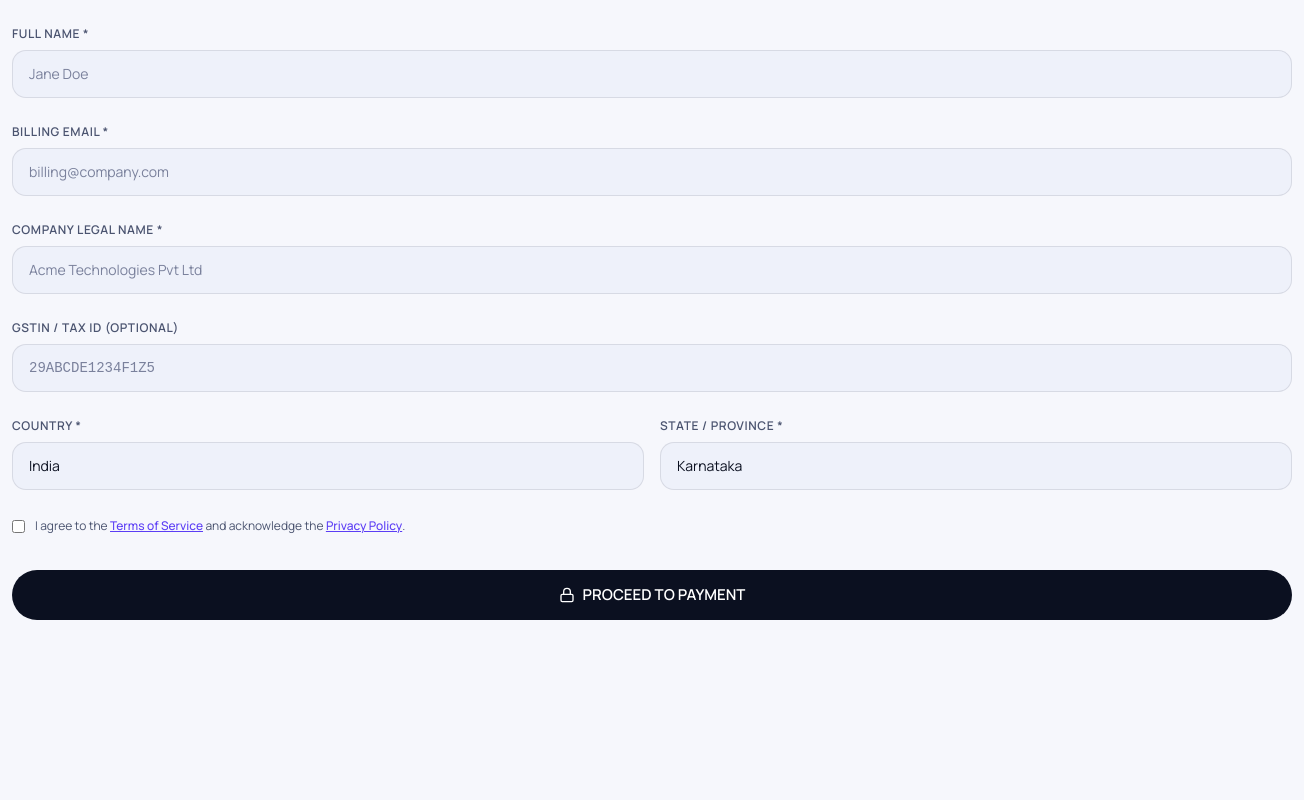
Scenario: BillingForm Component › rejects invalid GSTIN format
This screenshot has width=1304, height=800.
In the field labelled "GSTIN / Tax ID (Optional)": (652, 368) [12,344,1292,392], type "INVALID_GSTIN_123"
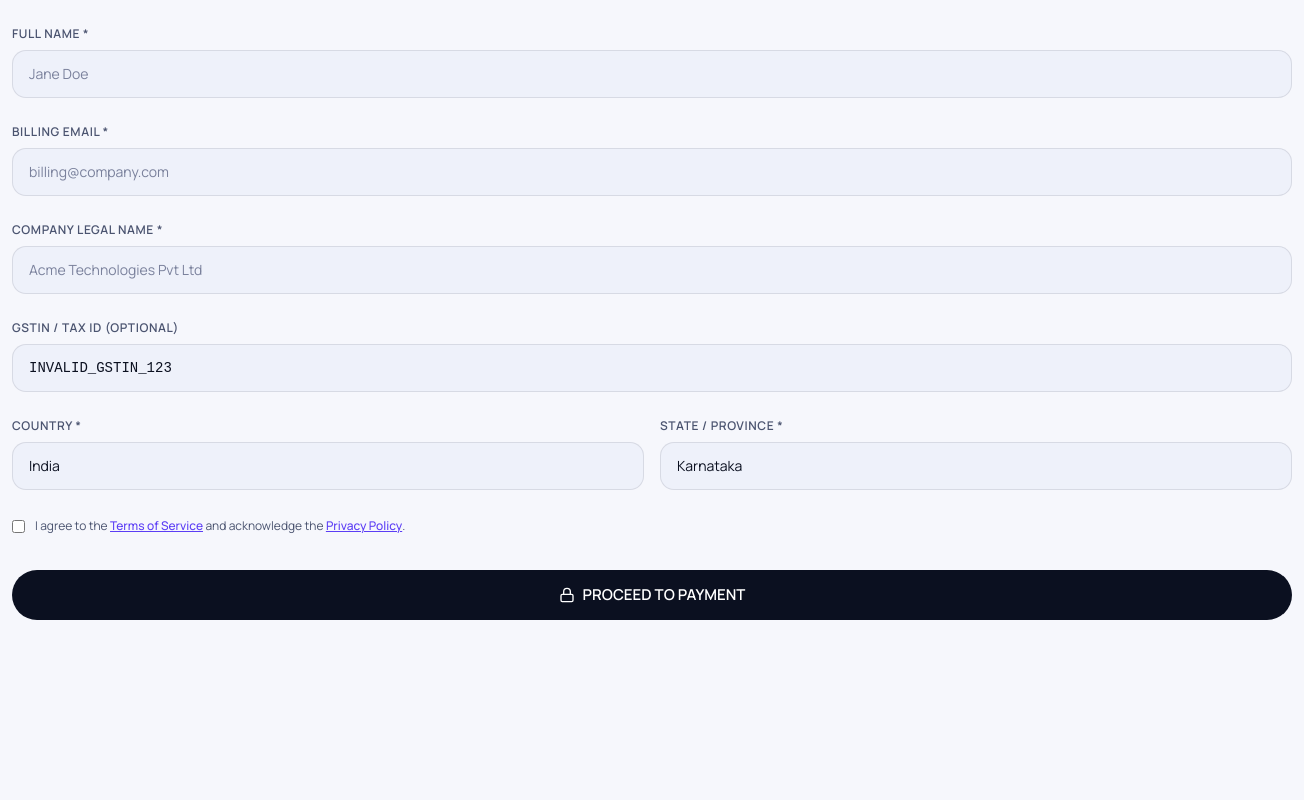
Click the button "PROCEED TO PAYMENT": (652, 595) [12,570,1292,620]
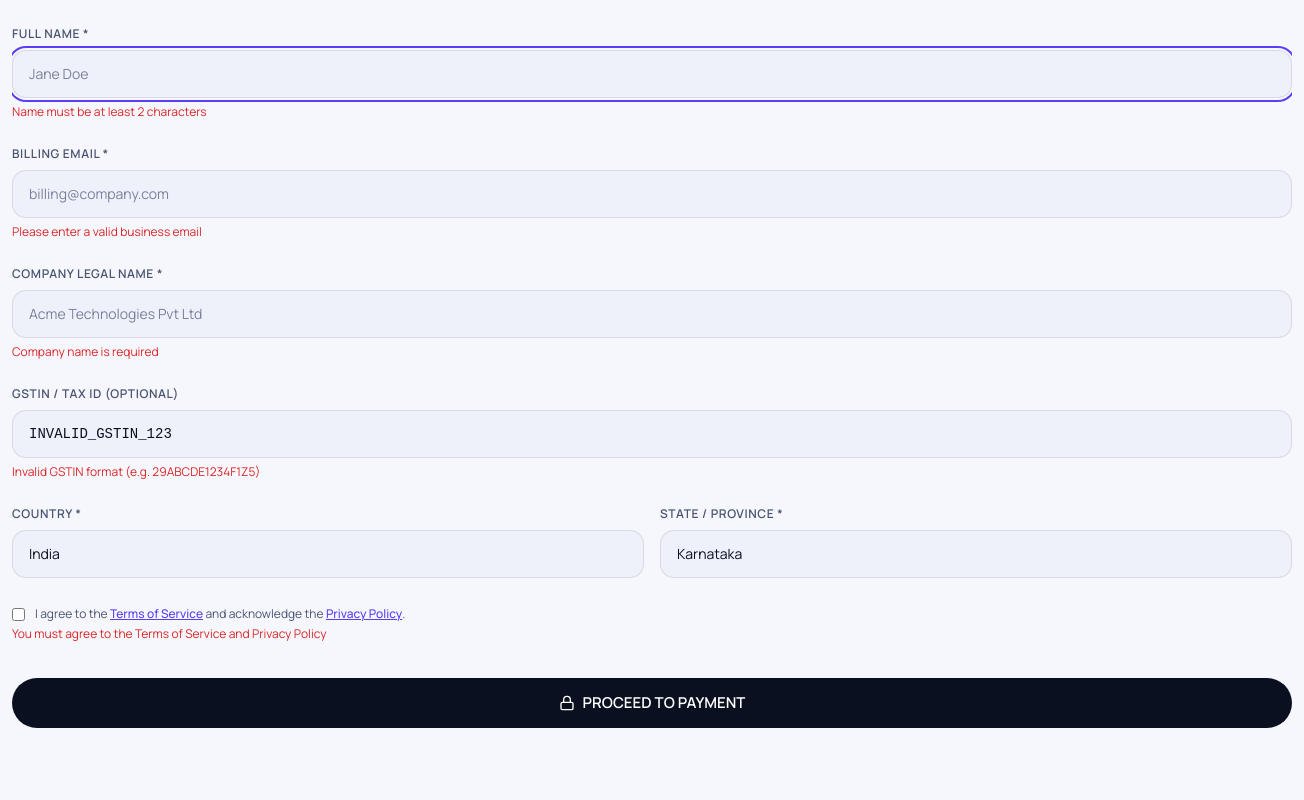
Check: the text "Invalid GSTIN format (e.g. 29ABCDE1234F1Z5)" is shown, box [12,463,260,480]
